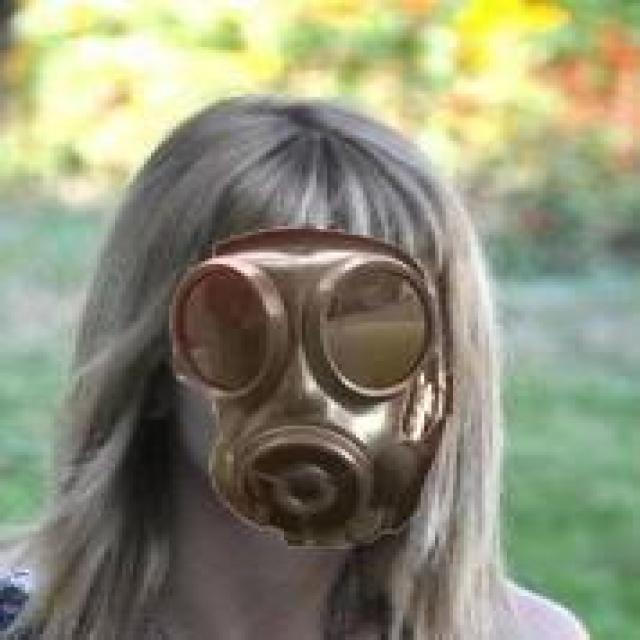mask: (119, 44, 507, 558)
